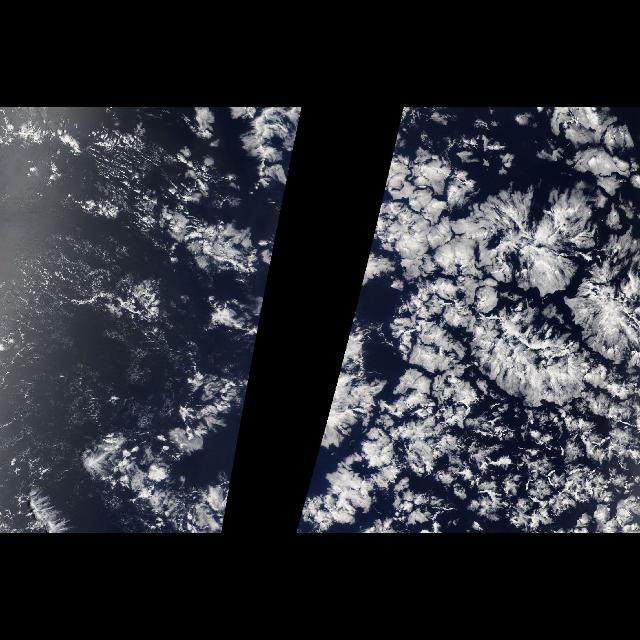Flower: (359, 136, 639, 532)
Sugar: (5, 111, 179, 441)
